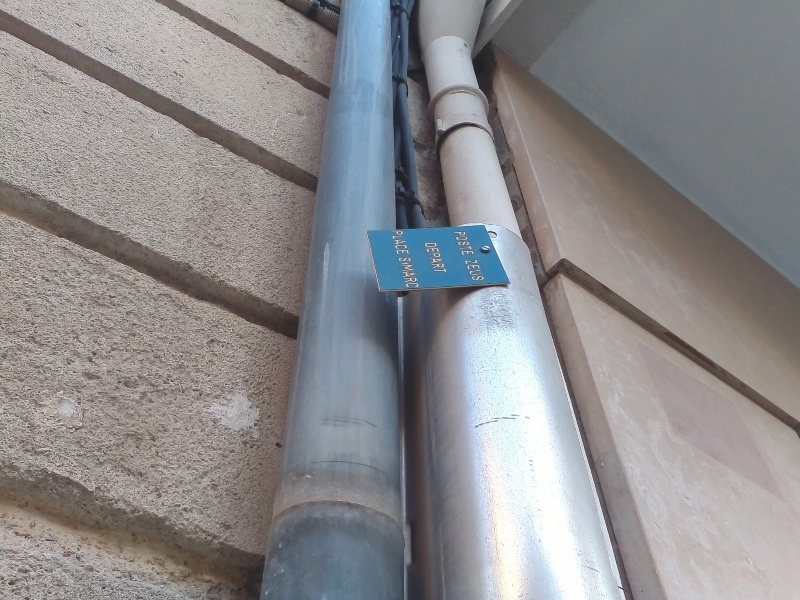text: (401, 257, 416, 290), (433, 243, 447, 274), (465, 259, 480, 281), (453, 231, 464, 256), (465, 231, 475, 256), (401, 231, 411, 256), (391, 231, 400, 256), (425, 243, 432, 274), (417, 257, 420, 290), (481, 259, 485, 281), (398, 257, 400, 290)
